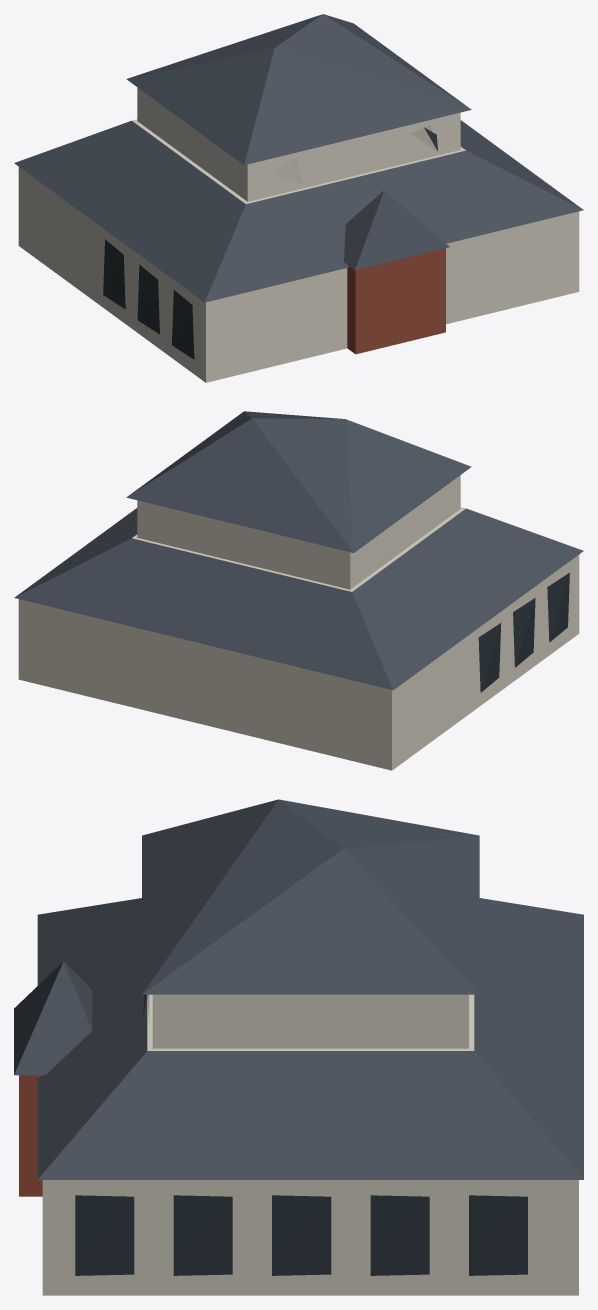
Rendered from amstelkerk.lod2.glb.
3 renders of one model, top to bottom at view 1: azimuth 30°, elevation 25°; view 2: azimuth 150°, elevation 25°; view 3: azimuth 270°, elevation 25°, orthographic. The views are drawn at different scales.
Parts seen in each view (by area): view 1: lod2; view 2: lod2; view 3: lod2.
Boxes of the visible parts, <box> form: lod2: <box>14,14,583,382</box>; lod2: <box>14,411,583,770</box>; lod2: <box>14,799,583,1295</box>.
Bounding box in the file's own units: 31.87 × 19.1 × 28.95.
